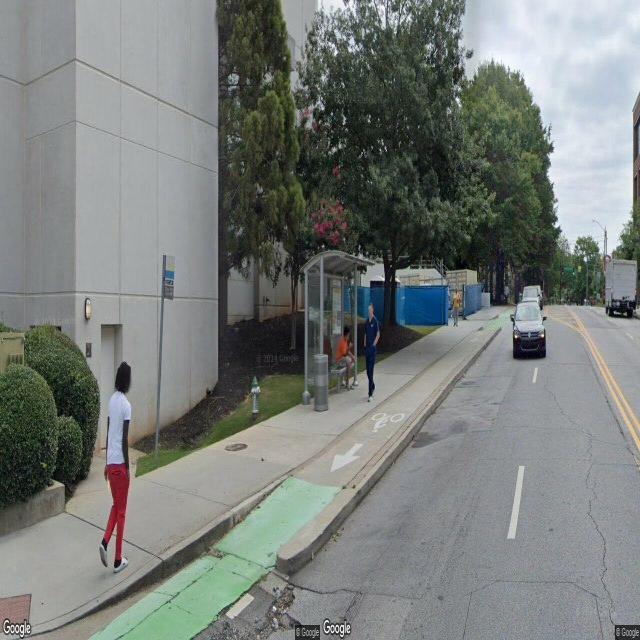seating: (332, 360, 356, 392)
shelter: (300, 250, 376, 402)
trash_can: (314, 353, 328, 411)
